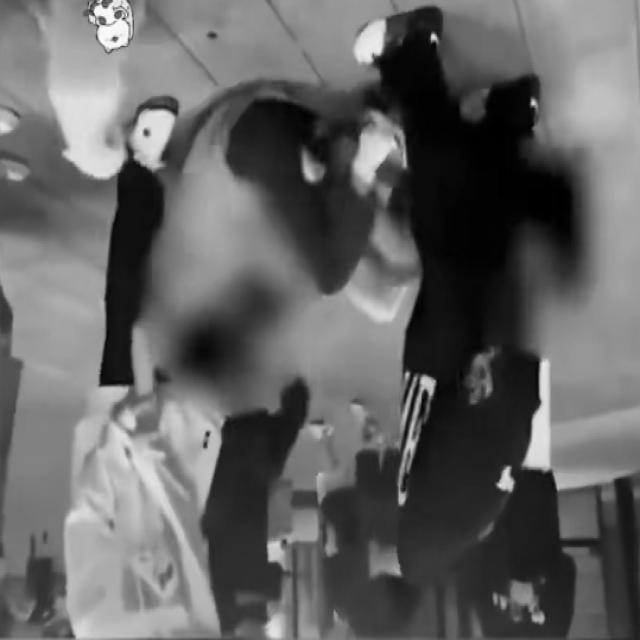fight: (133, 104, 420, 426)
nofight: (326, 4, 540, 616), (61, 101, 202, 638), (207, 377, 322, 633), (472, 365, 578, 637), (337, 401, 418, 631)
